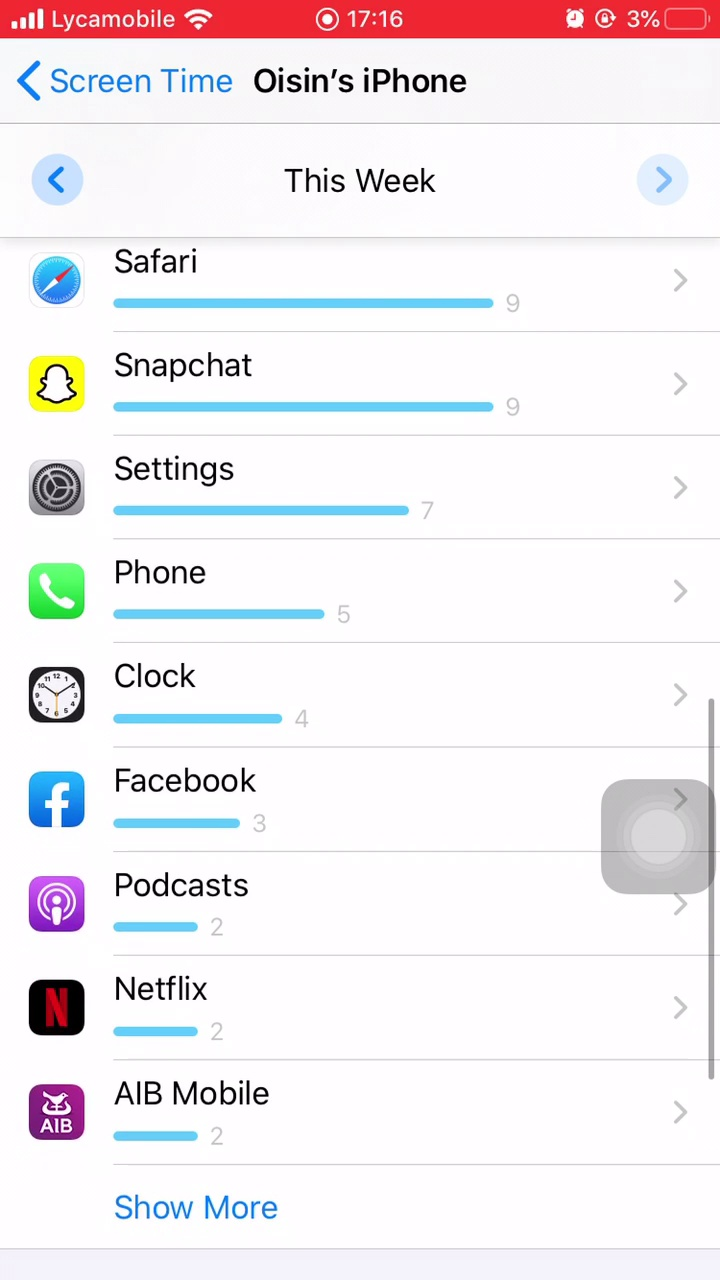pick_app: (23, 333, 595, 435), (20, 239, 582, 333), (21, 436, 489, 544), (26, 649, 451, 755), (25, 549, 440, 641), (21, 960, 356, 1061), (20, 1069, 369, 1165), (20, 855, 353, 949), (25, 758, 336, 850)
week: (258, 154, 456, 199)
